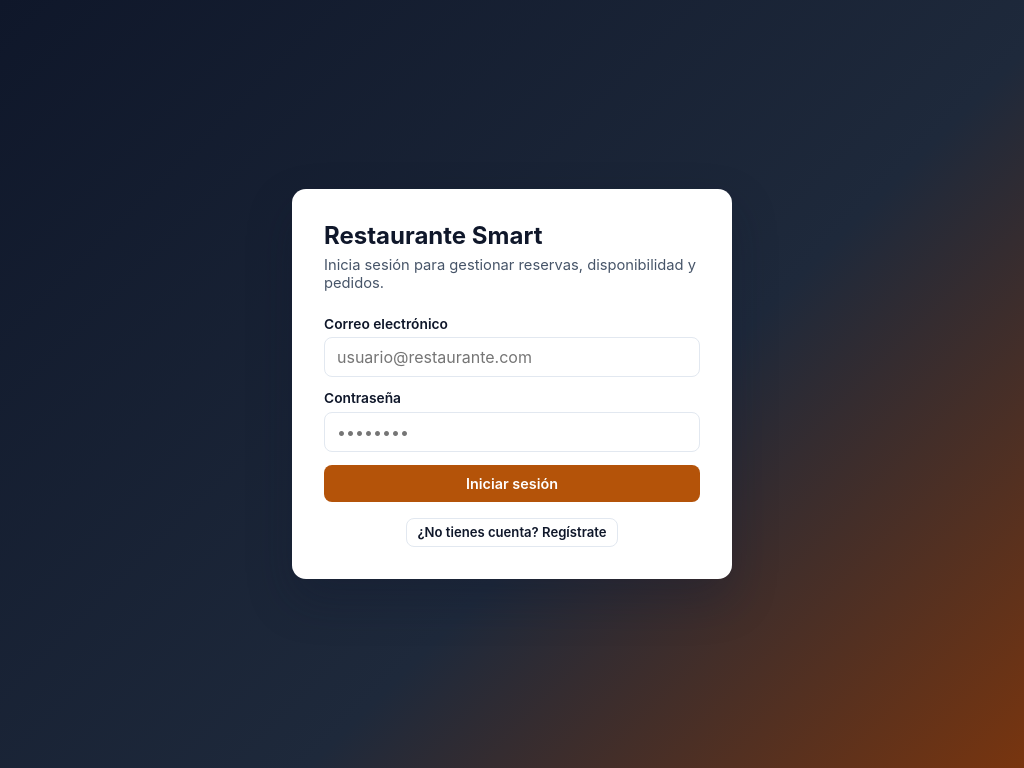
Test: LoginPage › valida campos vacíos y muestra error accesible
The image size is (1024, 768).
Click the button "Iniciar sesión".
click(512, 484)  # box [324,465,700,502]
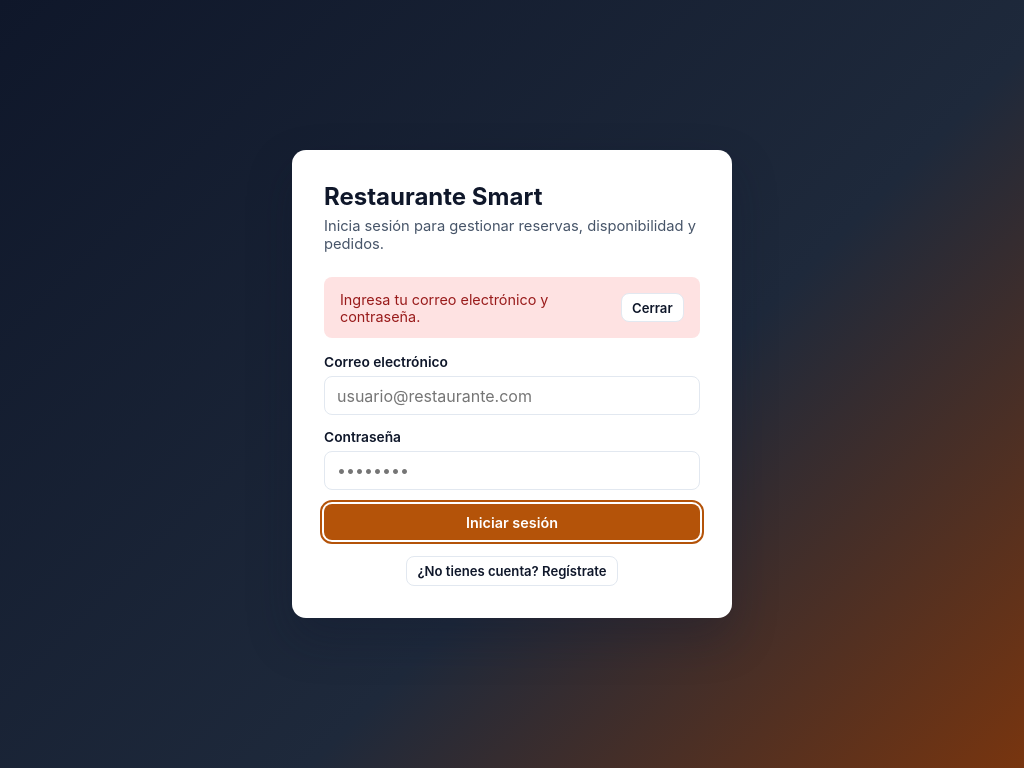
Check: the message shows "Ingresa tu correo electrónico y contraseña.", box [340,291,548,325]
